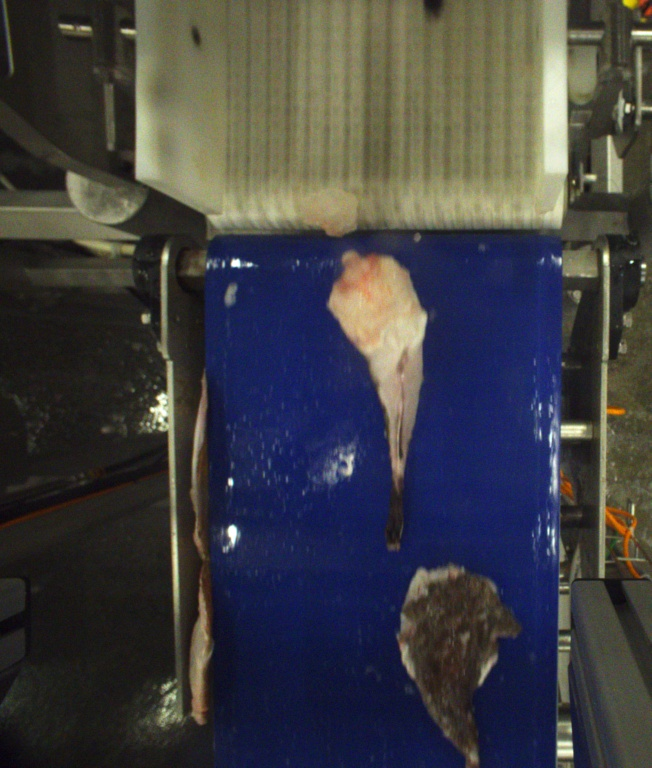ANF: (399, 562, 519, 768)
